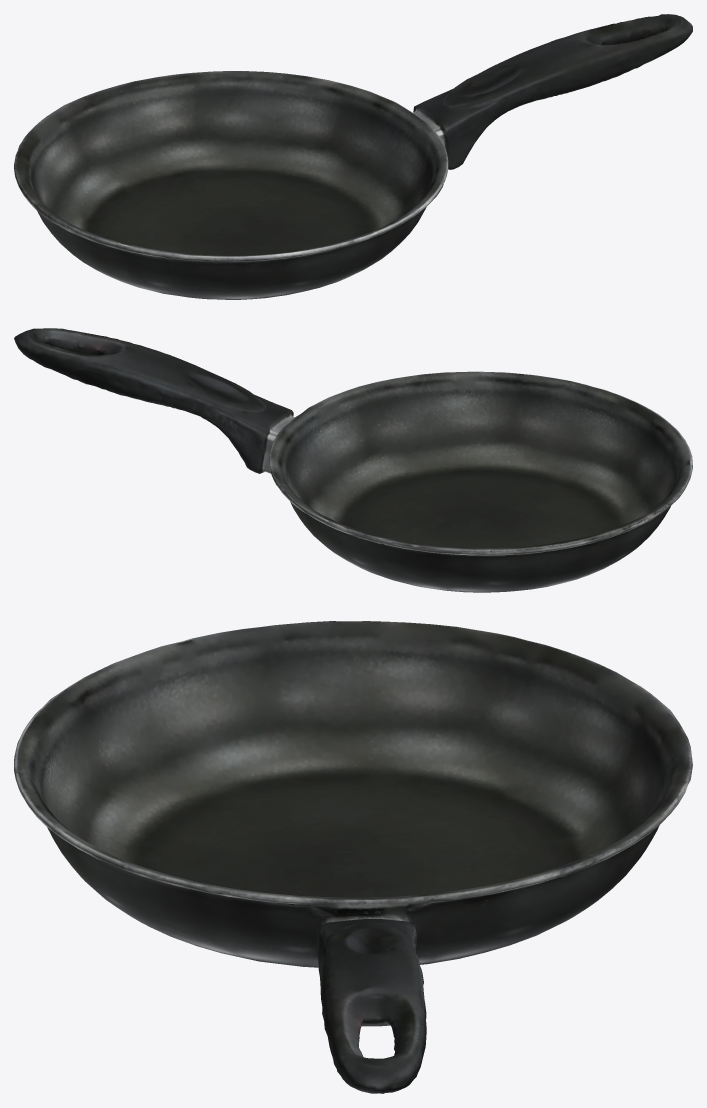
Rendered from Chefmate_8_Frypan.glb.
3 views of the same model, one above another, from view 1: azimuth 30°, elevation 25°; view 2: azimuth 150°, elevation 25°; view 3: azimuth 270°, elevation 25° (orthographic). The views are drawn at different scales.
Visible parts, largest first — view 1: Chefmate_8_Frypan; view 2: Chefmate_8_Frypan; view 3: Chefmate_8_Frypan.
Boxes of the visible parts, left/top/right/bottom form: Chefmate_8_Frypan: left=14, top=14, right=692, bottom=299; Chefmate_8_Frypan: left=14, top=328, right=692, bottom=592; Chefmate_8_Frypan: left=14, top=621, right=692, bottom=1093.
Size of the model in its own units: 0.3558 by 0.055 by 0.2044.
Materials: 1 (1 with a texture image).
